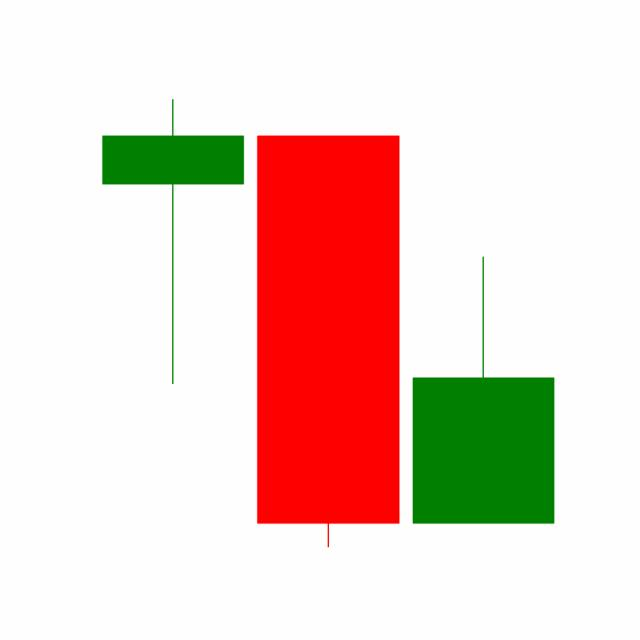Marubozu: (249, 130, 406, 552)
